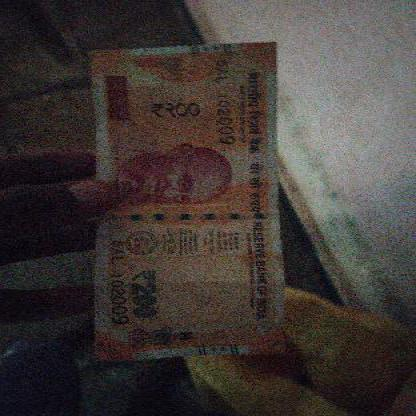New200Front: (90, 47, 284, 352)
